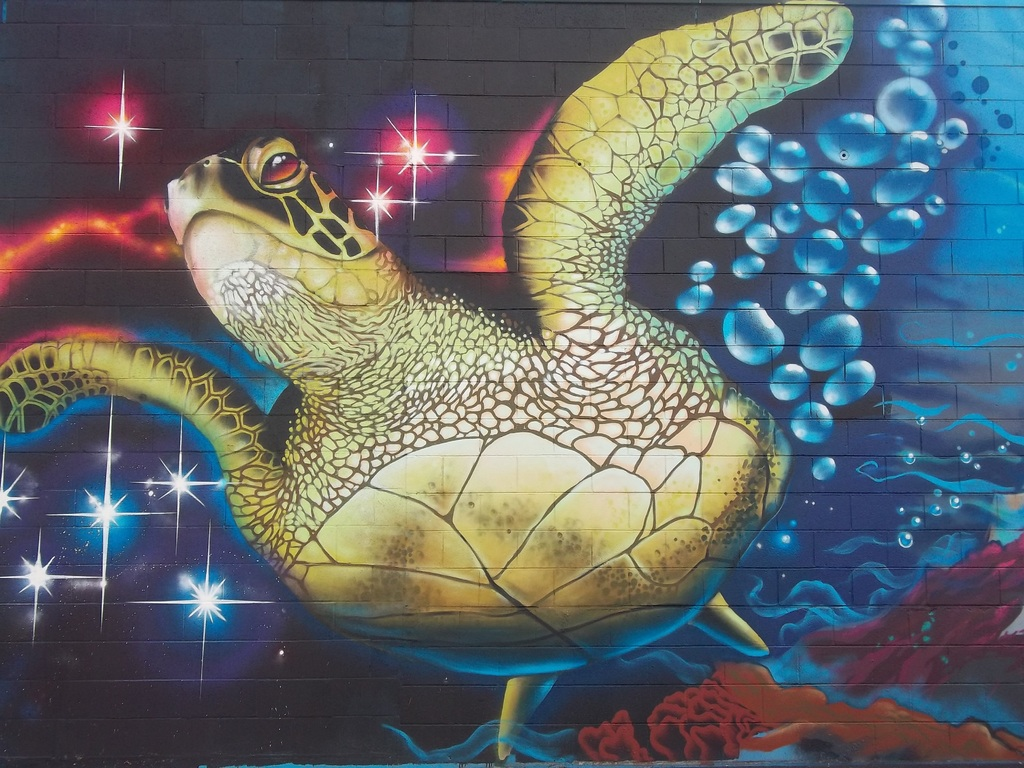Sea turtles: (0, 0, 858, 761)
